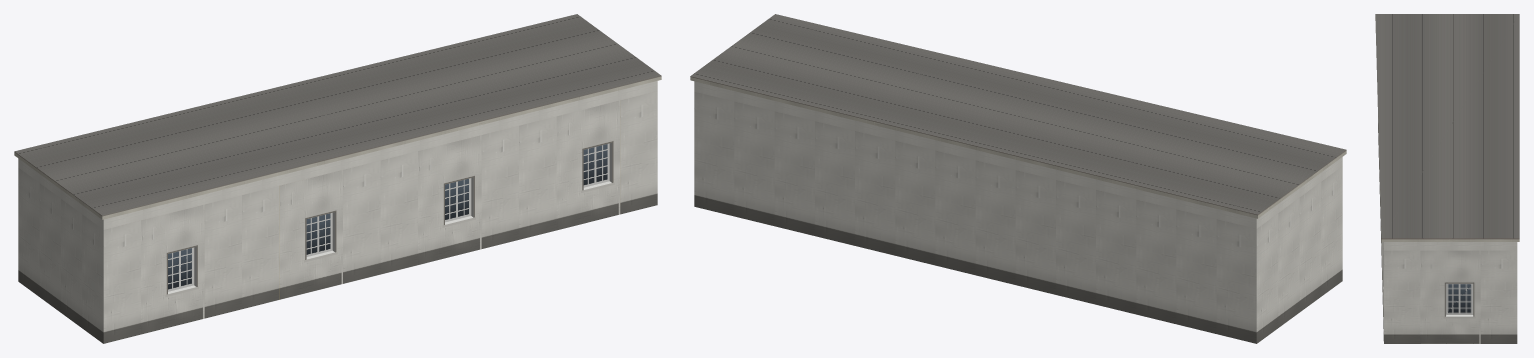
Rendered from SM_Molo_Edificio_C_LOD1.fbx.
3 views of the same model, side by side, from view 1: azimuth 30°, elevation 25°; view 2: azimuth 150°, elevation 25°; view 3: azimuth 270°, elevation 25° (orthographic). The views are drawn at different scales.
Visible parts, largest first — view 1: SM_Molo_Edificio_C_LOD1; view 2: SM_Molo_Edificio_C_LOD1; view 3: SM_Molo_Edificio_C_LOD1.
Boxes of the visible parts, x1,y1,x2,y2 form: SM_Molo_Edificio_C_LOD1: [14, 14, 661, 343]; SM_Molo_Edificio_C_LOD1: [690, 14, 1346, 343]; SM_Molo_Edificio_C_LOD1: [1375, 14, 1519, 343].
Size of the model in its own units: 1756 by 476 by 387.
Materials: 1 (1 with a texture image).
